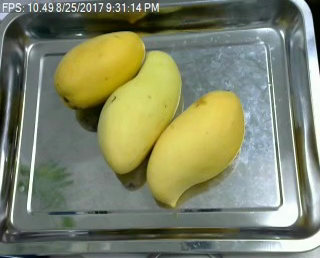Mango: (148, 90, 244, 204), (98, 50, 181, 173), (50, 29, 144, 106)
